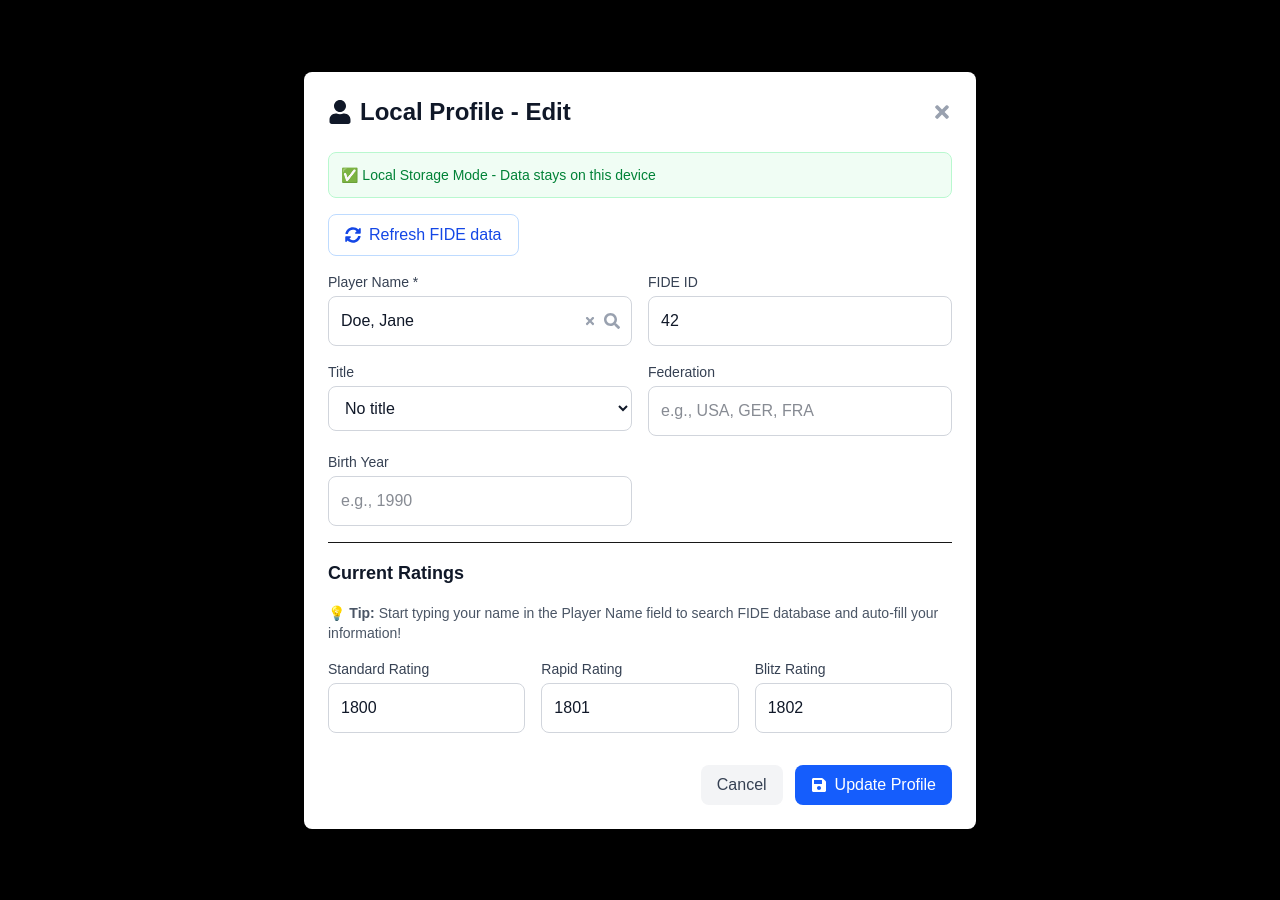
Test case: preserves edited draft on refresh failure
The image size is (1280, 900).
Replace the text in the number field labelled "Standard Rating" with "1950" at point(427, 708), box [328,682,525,732]
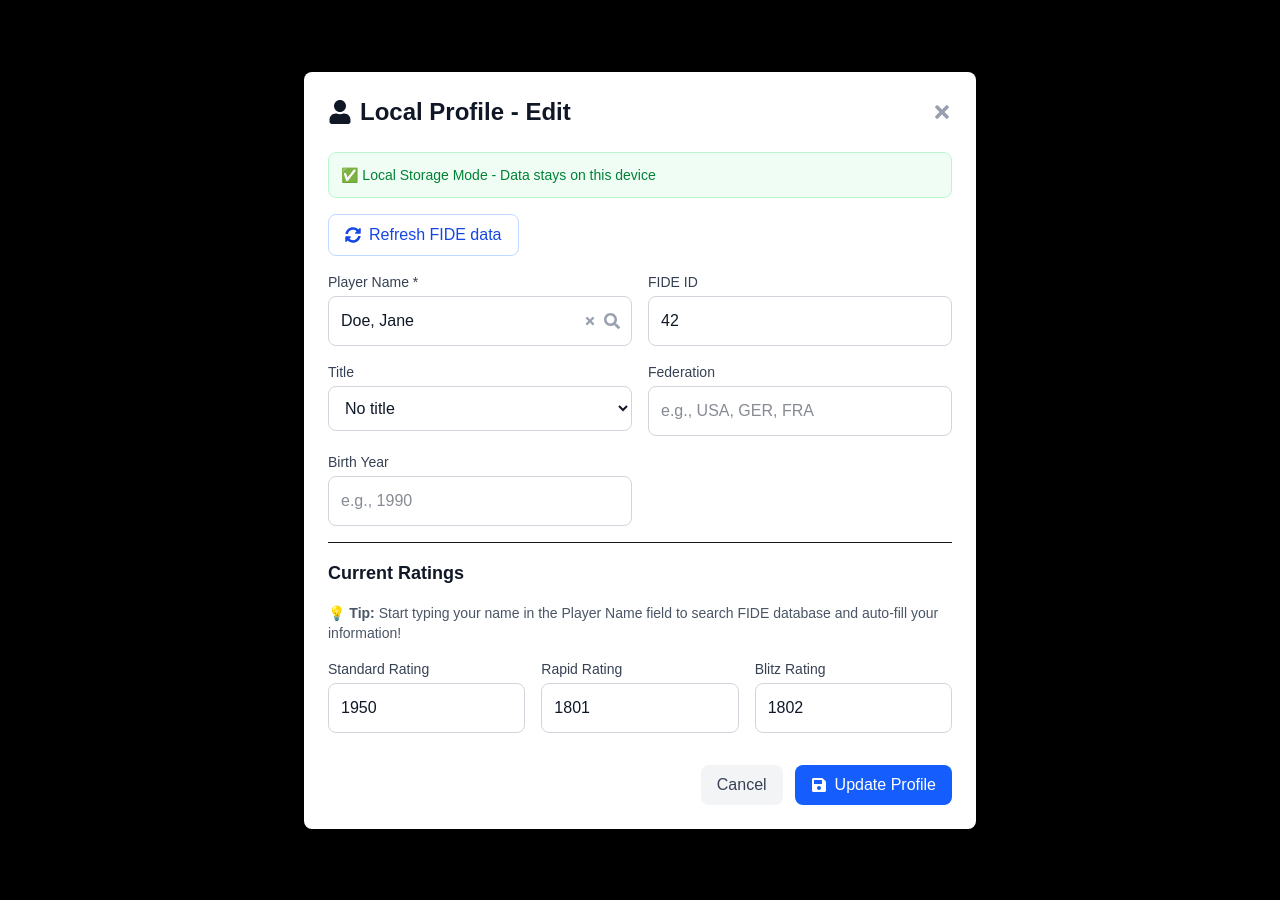
Click the button "Refresh FIDE data" at point(423, 234), box [328,214,518,256]
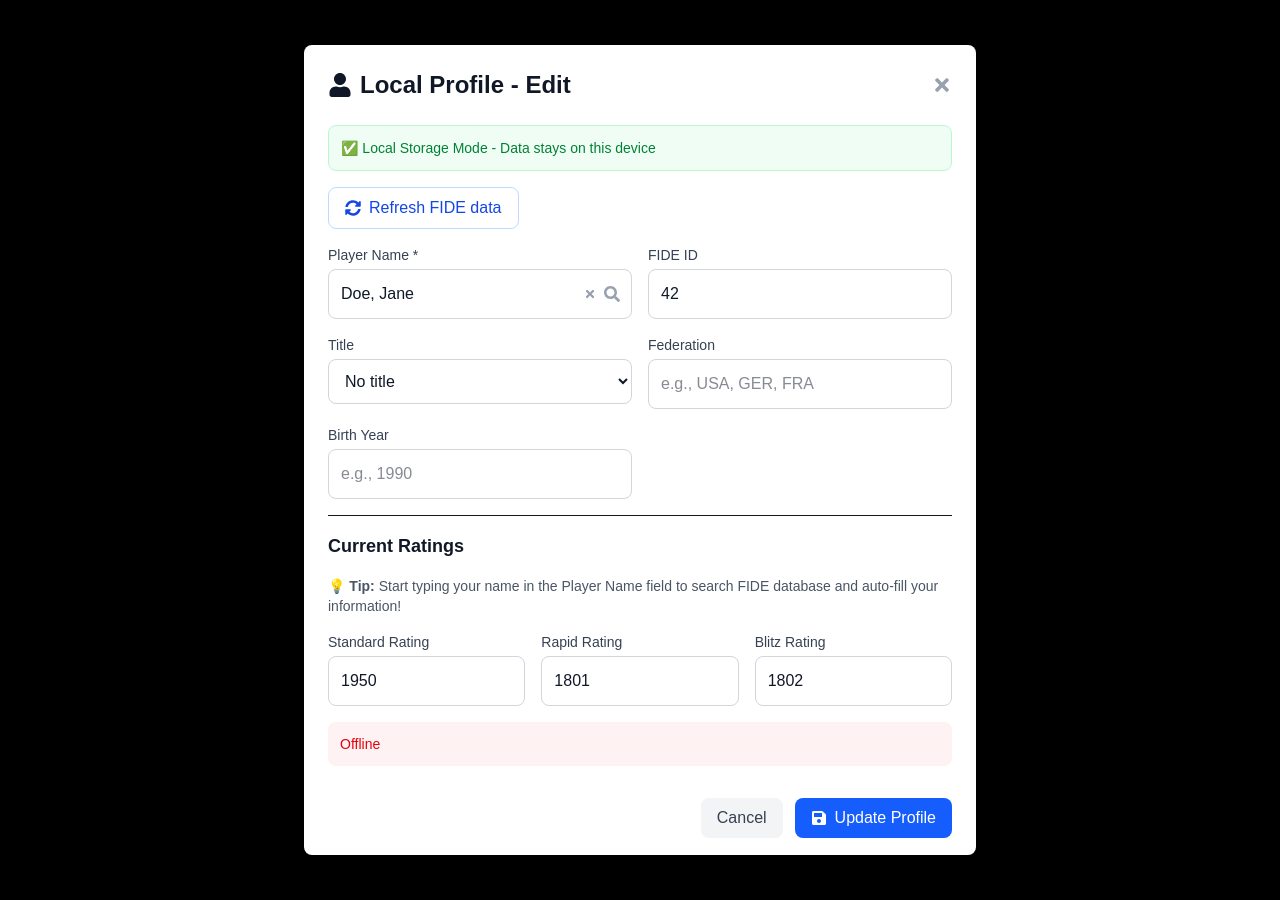
Check: the text "Offline" is shown, box [328,722,952,766]
